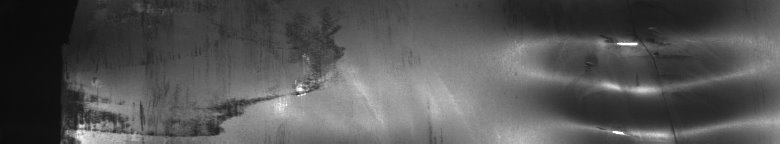ke: (571, 32, 747, 136)
